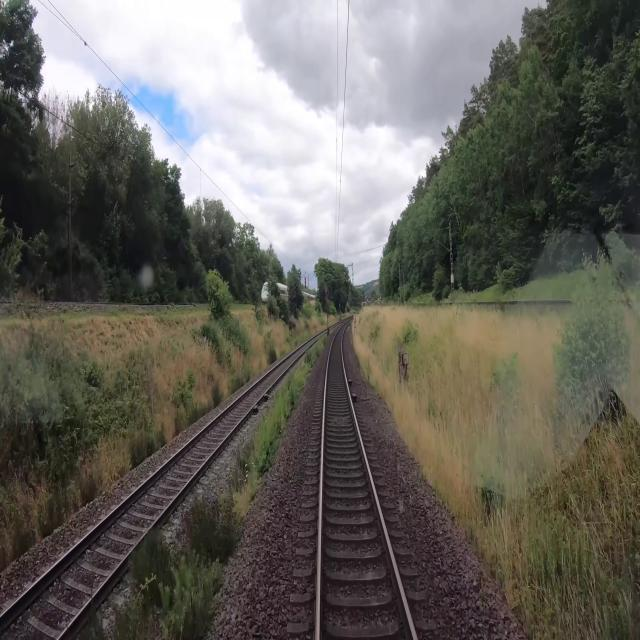Plant: (114, 335, 327, 639), (77, 590, 110, 639)
